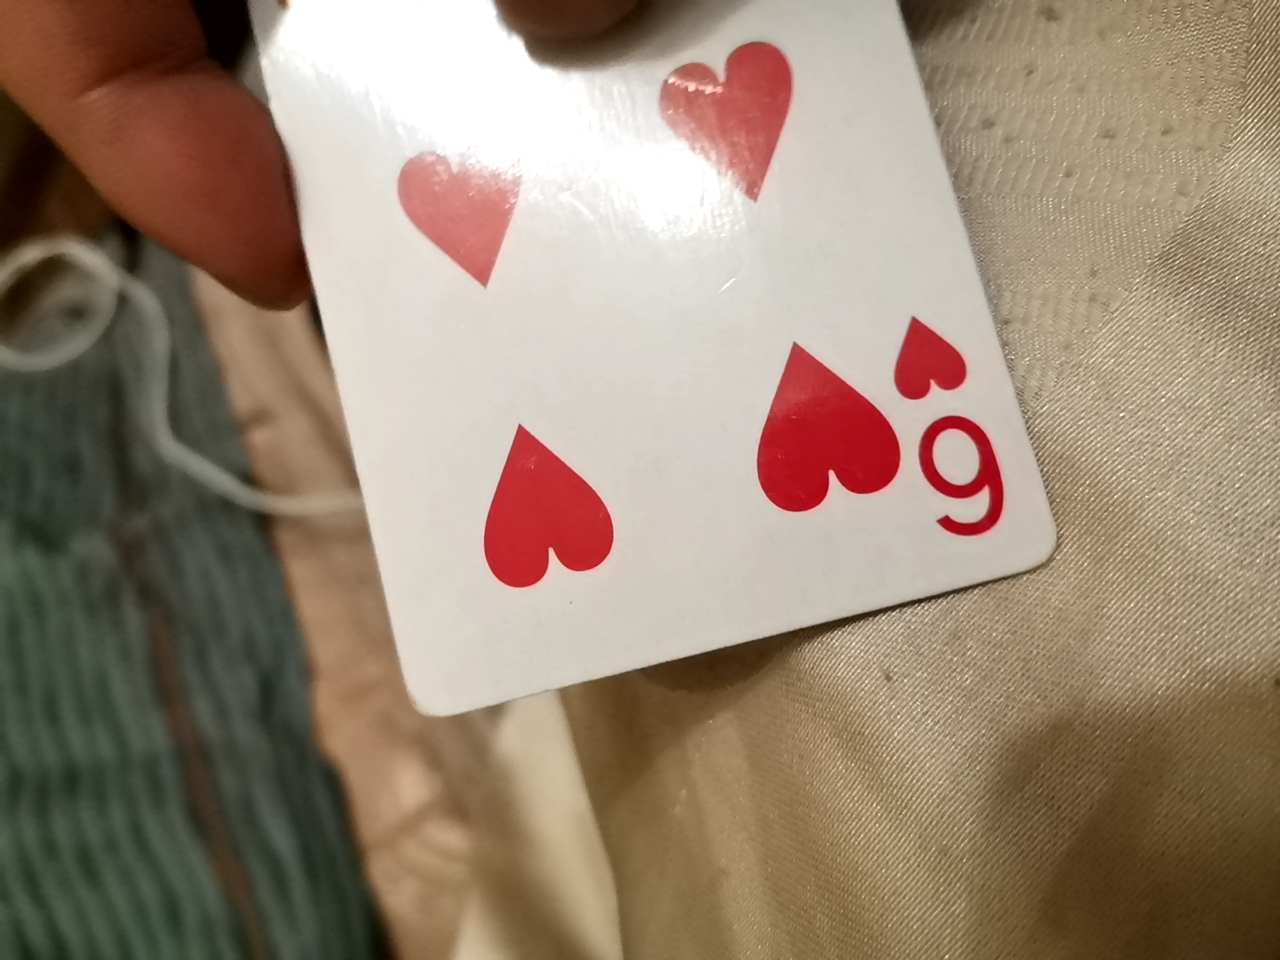hx 6: (218, 0, 1044, 735)
